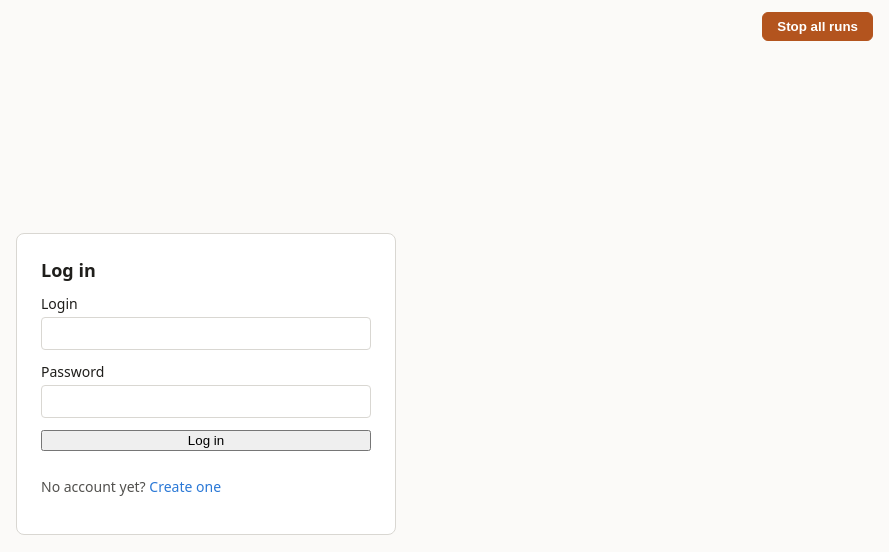
Test: Stop all runs, on the screens a login does not reach (console card 004) › one press sends one request to the stop route, with nothing in it, and no confirmation
Check: the form "Log in" is shown, box [16, 233, 396, 535]
Click the button "Stop all runs".
click(818, 26)  # box [762, 12, 873, 41]
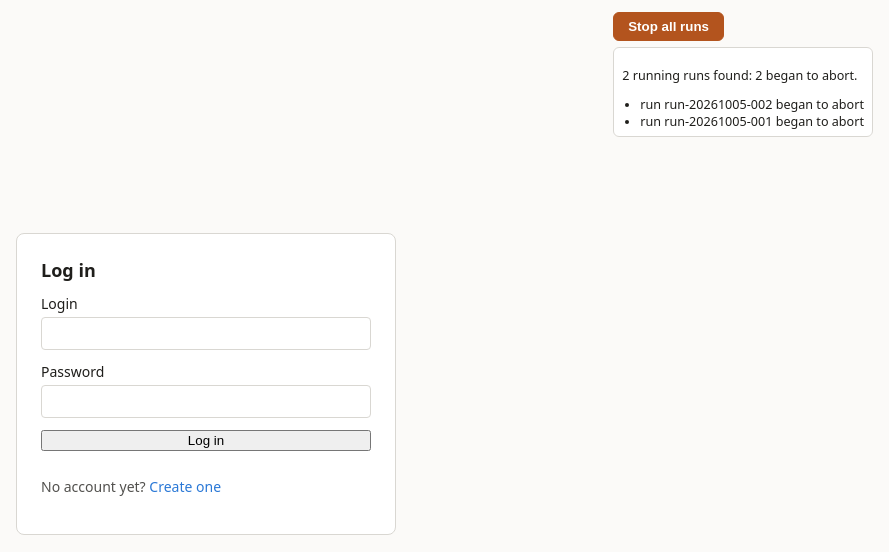
Check: the message with test id "stop-all-result" is shown, box [613, 47, 873, 137]
